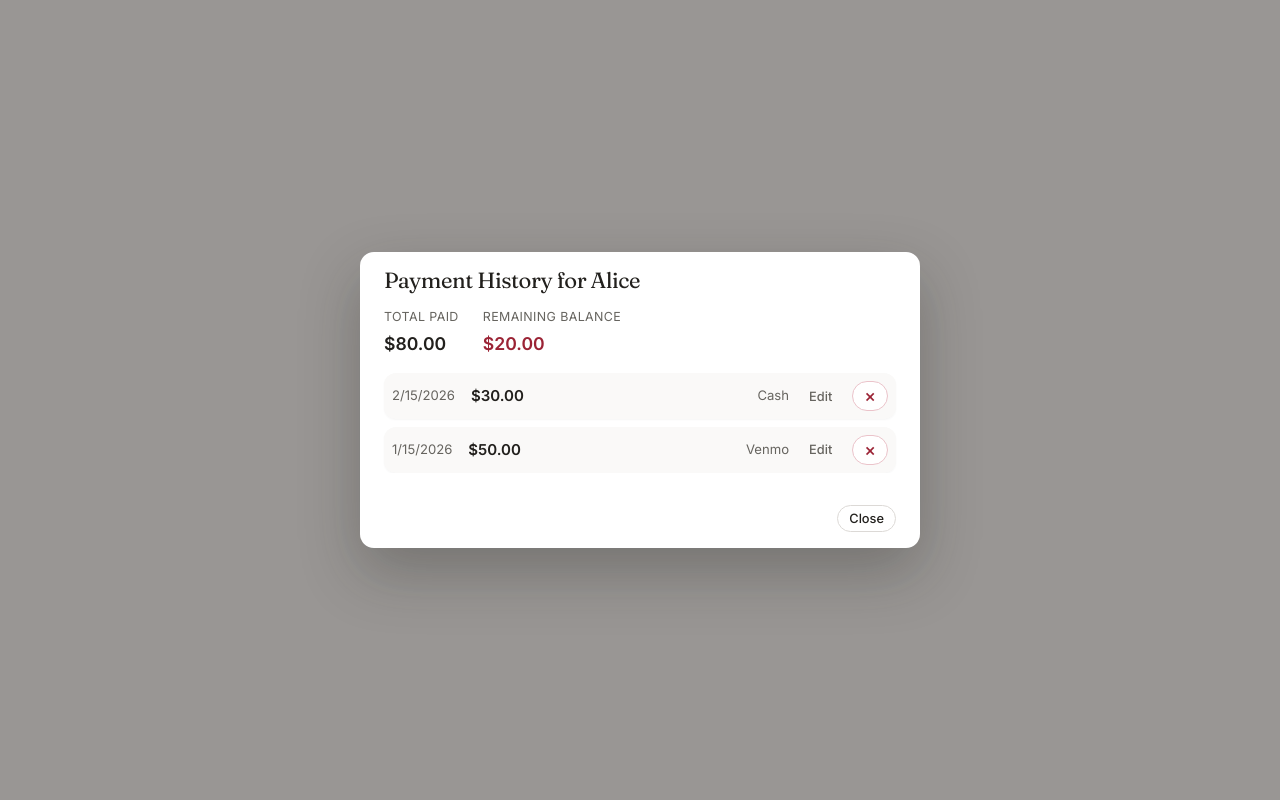
PaymentHistoryDialog — reversal-after-refund warning (#331) › says the reversal increases the balance when the household is already Outstanding (#333)
Click the button titled "Reverse this payment" in the row of "Cash". click: coordinates (870, 396)
box: [852,381,888,411]
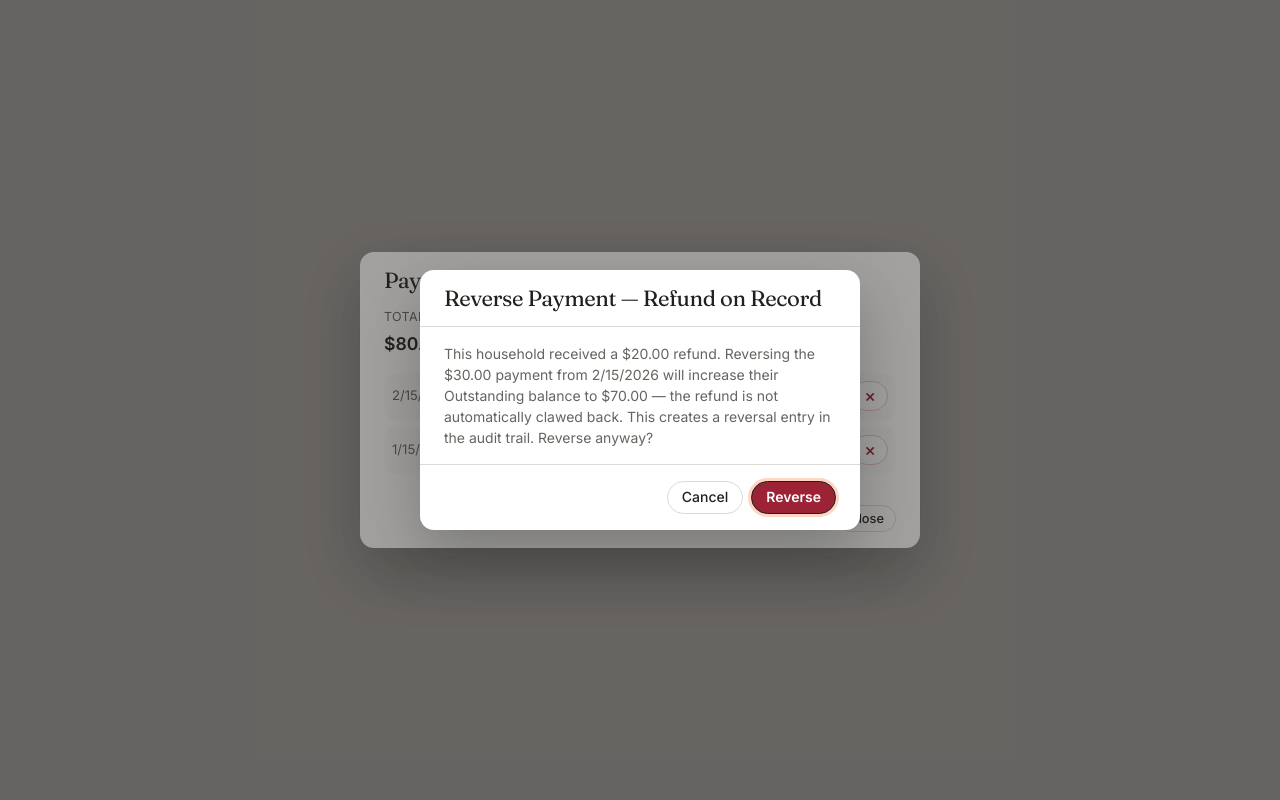
Check: the text with class "confirmation-message" shows "$20.00 refund", box [444,345,830,446]
Check: the text with class "confirmation-message" shows "Reversing the $30.00 payment", box [444,345,830,446]
Check: the text with class "confirmation-message" shows "will increase their Outstanding balance to $70.00", box [444,345,830,446]
